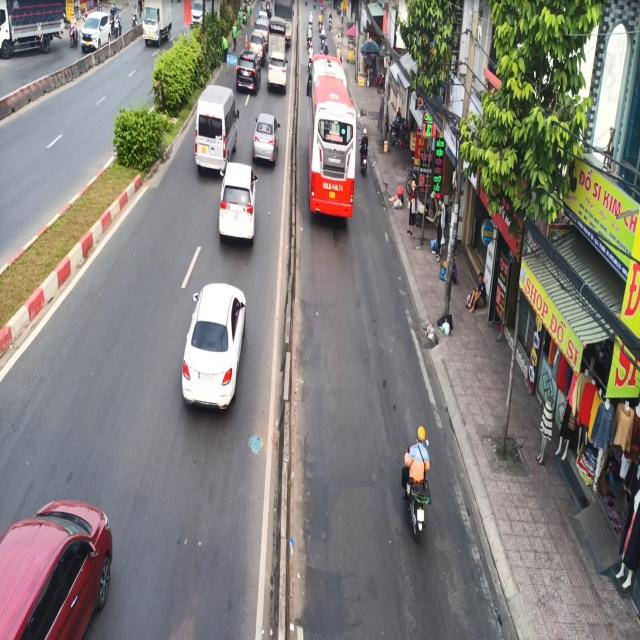bus: (307, 51, 353, 229)
car: (184, 278, 248, 423), (197, 77, 240, 166), (218, 159, 255, 254), (255, 110, 280, 171), (267, 52, 287, 98)
motor: (397, 422, 441, 558)
